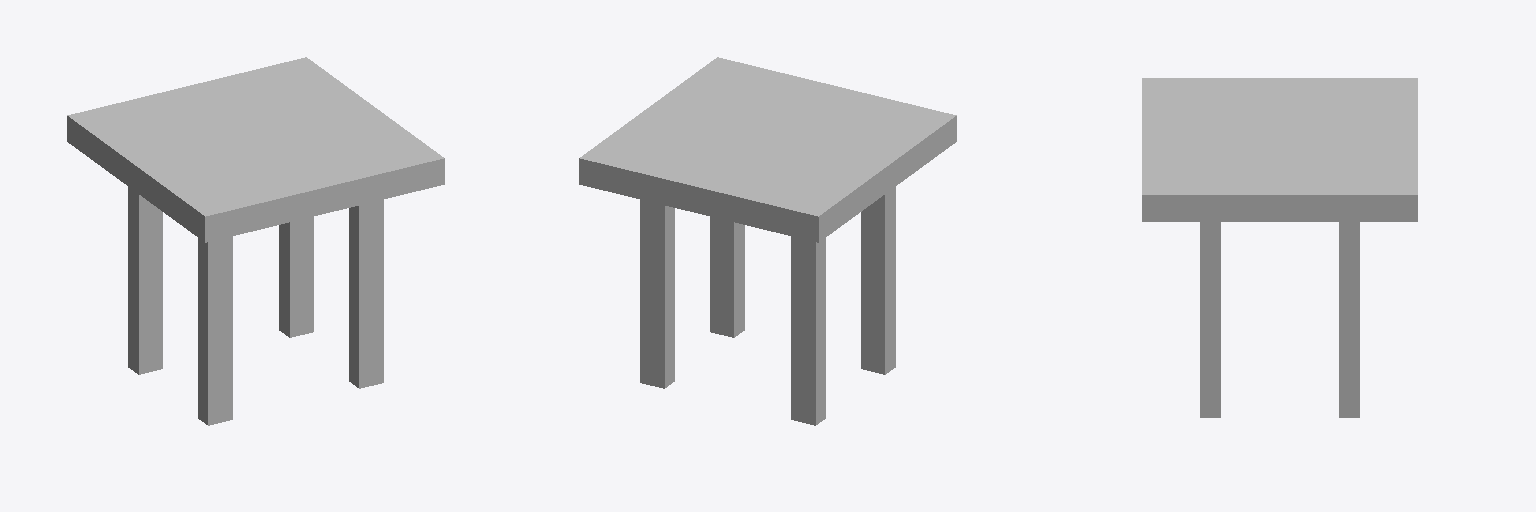
The model's file is chair.obj.
3 views of the same model, side by side, from view 1: azimuth 30°, elevation 25°; view 2: azimuth 150°, elevation 25°; view 3: azimuth 270°, elevation 25° (orthographic).
Parts seen in each view (by area): view 1: table_top_2_Cube.002, table_legs_2_Cube; view 2: table_top_2_Cube.002, table_legs_2_Cube; view 3: table_top_2_Cube.002, table_legs_2_Cube.
Part boxes in pixels (bbox=[...]): table_top_2_Cube.002: bbox=[67, 57, 444, 242]; table_legs_2_Cube: bbox=[128, 187, 383, 425]; table_top_2_Cube.002: bbox=[579, 57, 956, 242]; table_legs_2_Cube: bbox=[640, 187, 895, 425]; table_top_2_Cube.002: bbox=[1142, 78, 1417, 221]; table_legs_2_Cube: bbox=[1200, 222, 1359, 417].
Size of the model in its own units: 1 by 0.9509 by 1.